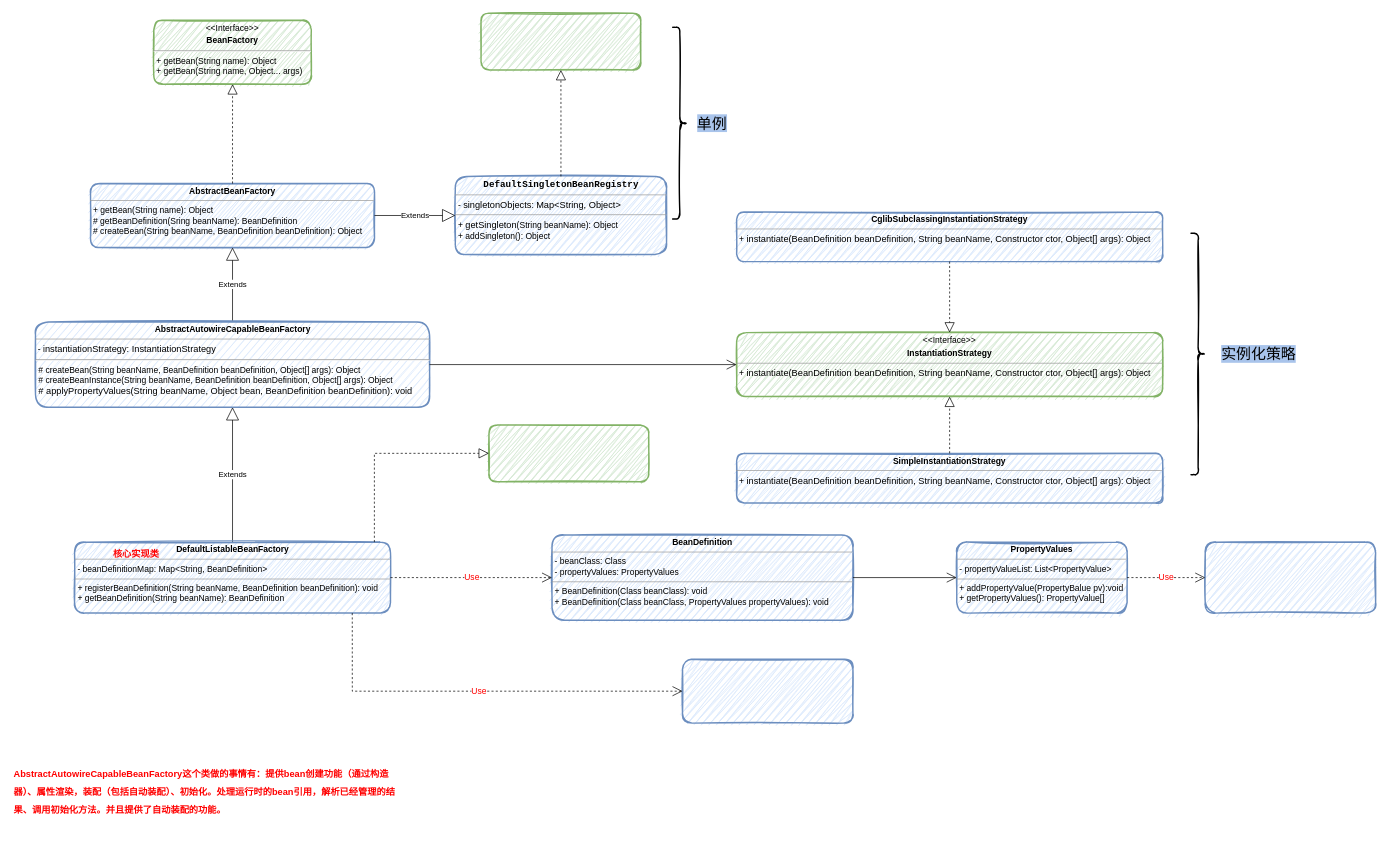
This 1388x841 diagram has some shape labels left out. The centre of each missing label's shape, as x and y in pixels:
<<Interface>> BeanDefinitionRegistry + getSingleton(String name): Object: the point at 568,453
<<Interface>> SingletonBeanRegistry + getSingleton(String name): Object: the point at 560,41
BeanRefrence - beanName: String + BeanReference(String beanName): void: the point at 767,690
PropertyValue - name: String - value: Object: the point at 1290,577
